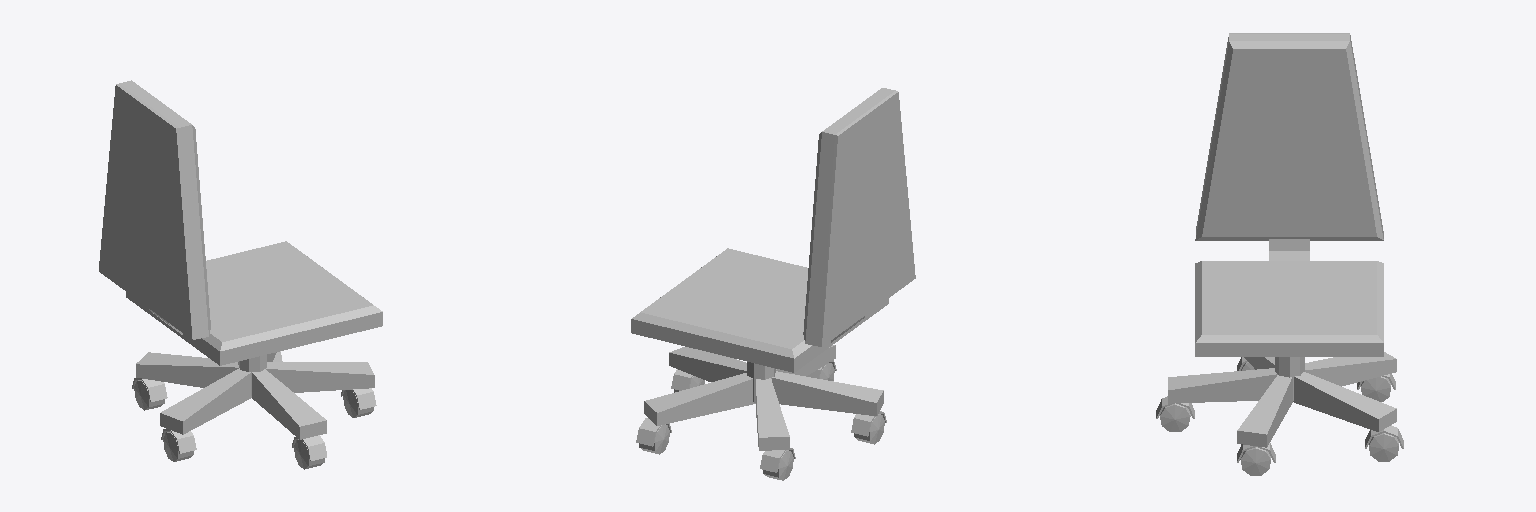
Rendered from chair.obj.
The picture shows the model from 3 angles: view 1: azimuth 30°, elevation 25°; view 2: azimuth 150°, elevation 25°; view 3: azimuth 270°, elevation 25°; orthographic projection.
Parts seen in each view (by area): view 1: pCube24, pCube16, pCube22; view 2: pCube24, pCube16, pCube22; view 3: pCube24, pCube16, pCube22, pCube23, polySurface8 polySurface7, polySurface10 polySurface5, polySurface1 pCylinder27, polySurface12 polySurface6, pCylinder25.
Boxes of the visible parts, <box> form: pCube24: <box>99,80,210,339</box>; pCube16: <box>126,241,382,365</box>; pCube22: <box>136,352,374,439</box>; pCube24: <box>803,88,915,346</box>; pCube16: <box>631,248,888,372</box>; pCube22: <box>644,345,883,450</box>; pCube24: <box>1195,33,1383,240</box>; pCube16: <box>1195,261,1383,356</box>; pCube22: <box>1168,352,1396,447</box>; pCube23: <box>1269,239,1309,260</box>; polySurface8 polySurface7: <box>1369,433,1398,461</box>; polySurface10 polySurface5: <box>1240,447,1270,475</box>; polySurface1 pCylinder27: <box>1160,403,1190,431</box>; polySurface12 polySurface6: <box>1361,376,1390,401</box>; pCylinder25: <box>1275,357,1304,400</box>.
Size of the model in its own units: 2.4 by 3.73 by 2.44.